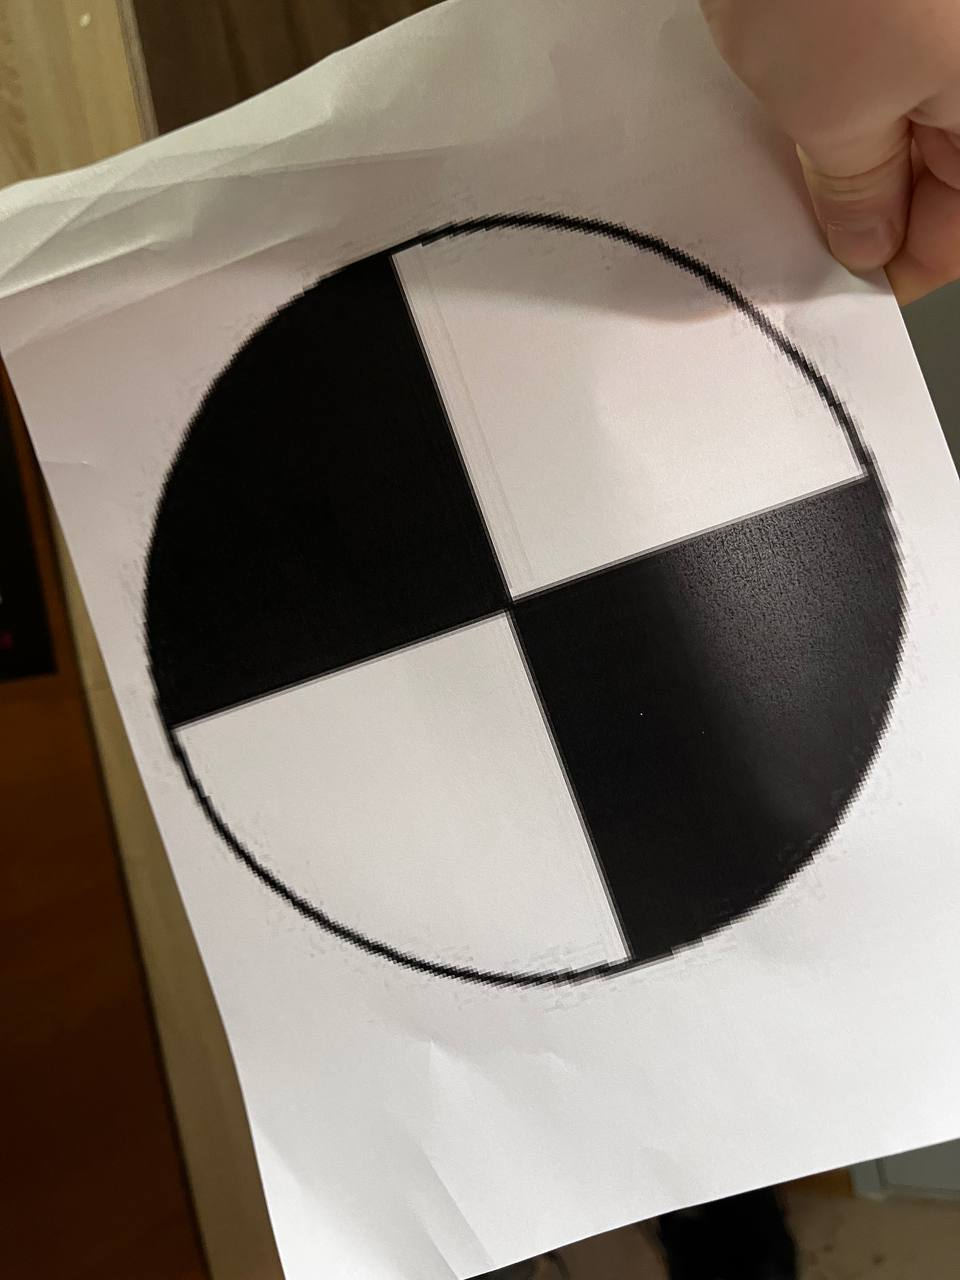pattern: (145, 211, 906, 984)
